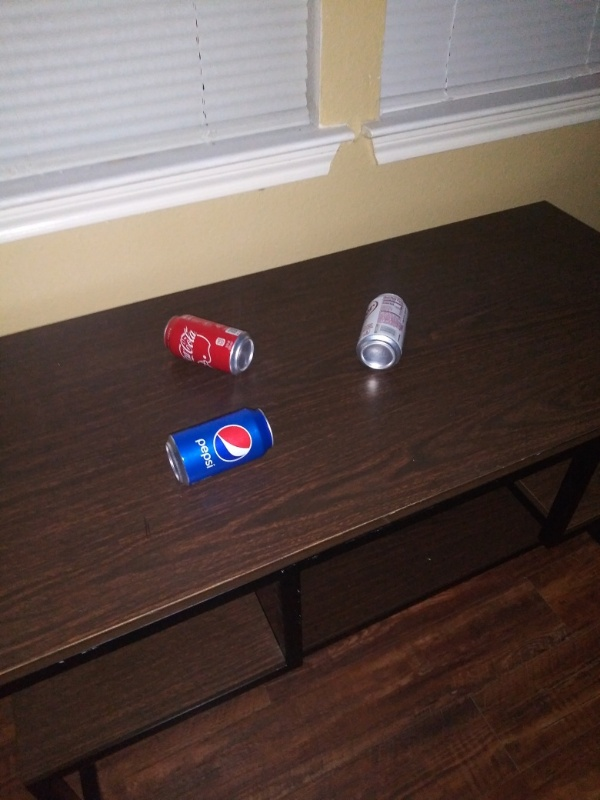can: (158, 405, 281, 491), (159, 306, 258, 381), (354, 287, 413, 377)
